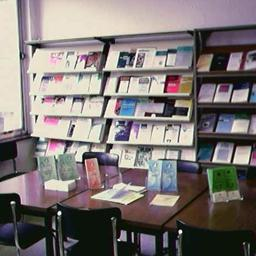Ventana: (0, 1, 28, 134)
